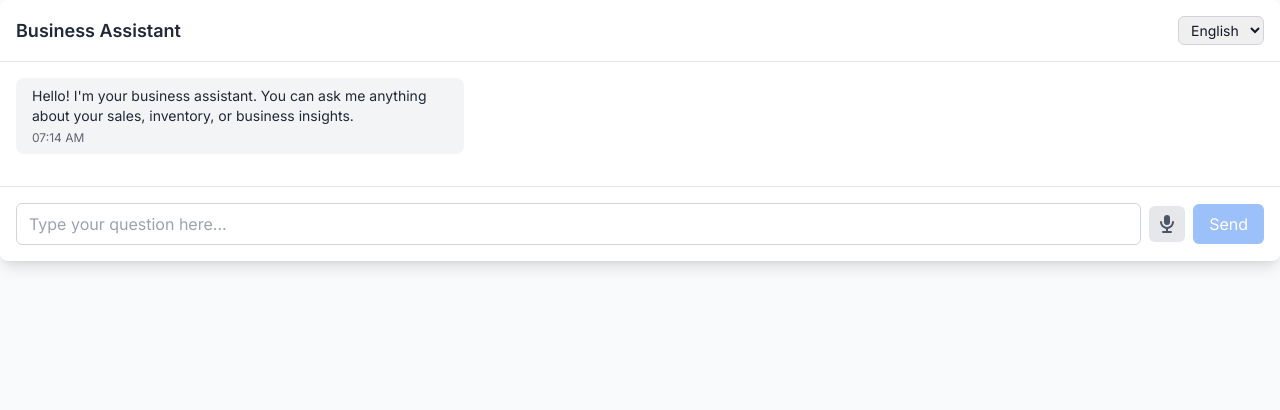
it: ChatInterface › text messaging › should disable input and button while loading
The width and height of the screenshot is (1280, 410).
Type "Test message" into the field with placeholder "Type your question here...".
click(579, 224); type("Test message")  # box [16, 203, 1141, 245]
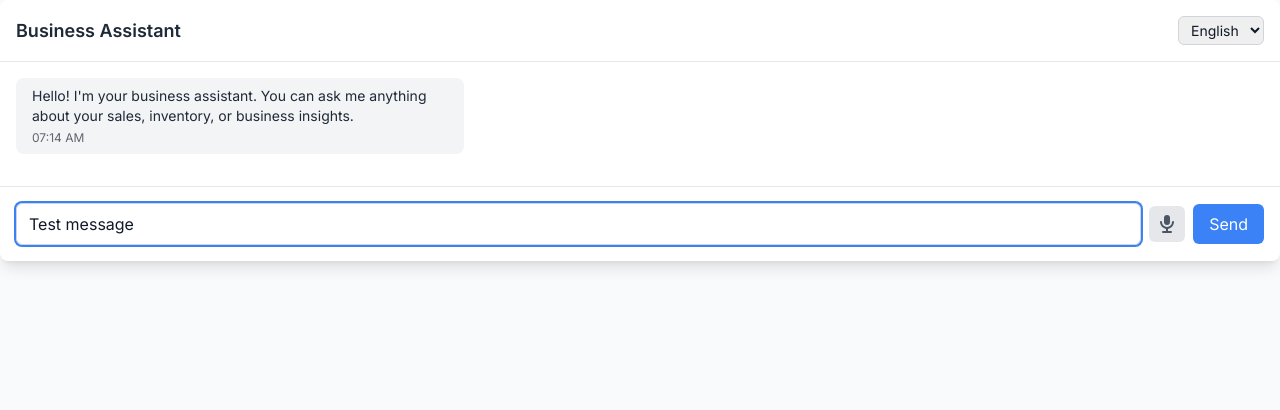
Click the button "Send".
click(1229, 224)  # box [1193, 204, 1264, 244]
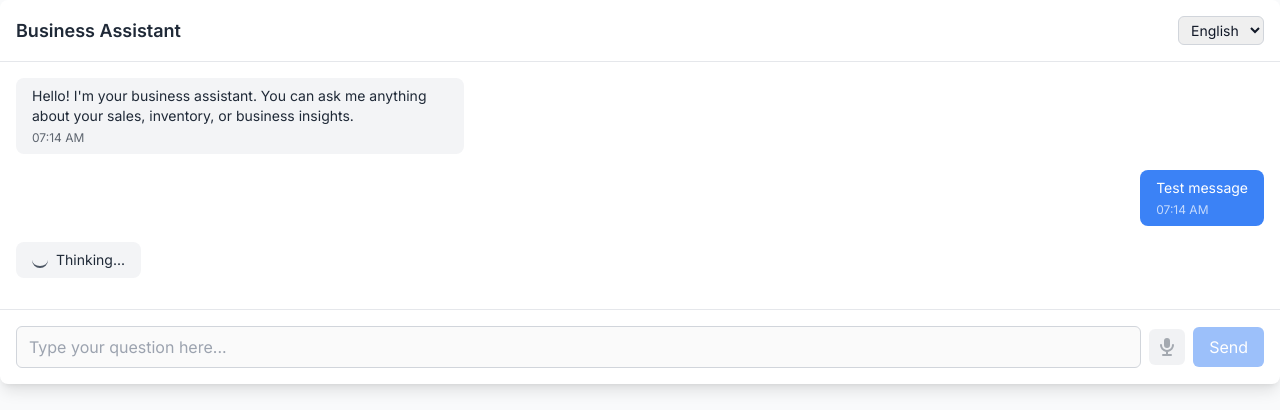
expect the field with placeholder "Type your question here..." is disabled: met, box [16, 326, 1141, 368]
expect the button "Send" is disabled: met, box [1193, 327, 1264, 367]
